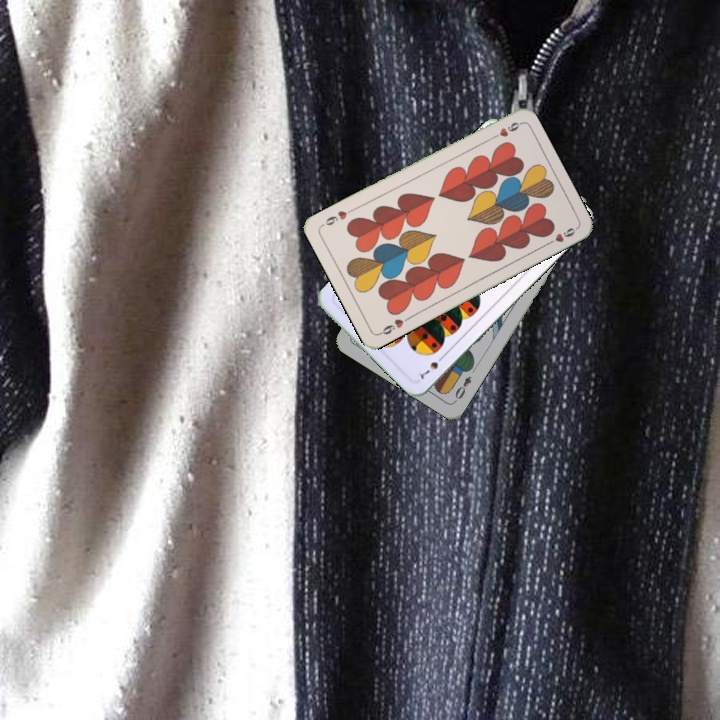EO: (450, 372, 474, 405)
H9: (485, 118, 523, 143), (375, 313, 412, 337)
S7: (414, 351, 447, 382)
